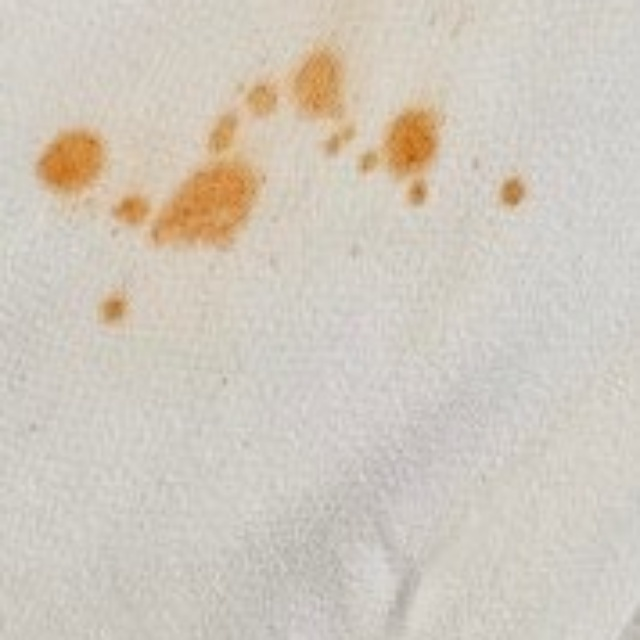kimchi: (9, 99, 128, 226)
